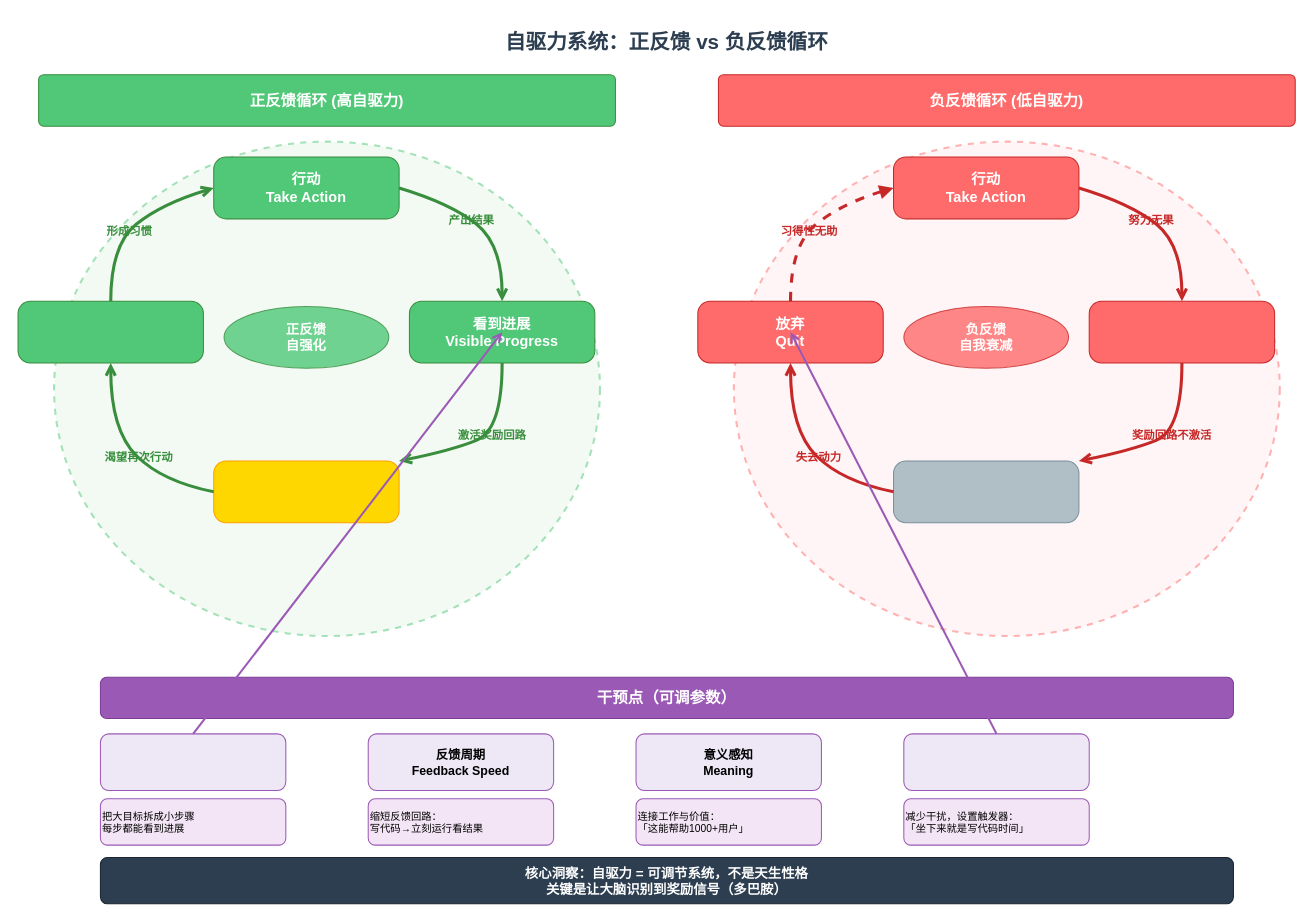
This 1313x922 diagram has some shape labels left out. The shapes that lost their labels are listed below. From the top down, each one's centre as x and y in pixels, then its label:
At (110,331): "继续行动 Continue".
At (1181,331): "看不到效果 No Visible Effect".
At (306,491): "多巴胺分泌 Dopamine Release".
At (985,491): "多巴胺缺失 No Dopamine".
At (192,762): "目标颗粒度 Goal Granularity".
At (996,762): "环境设计 Environment".
